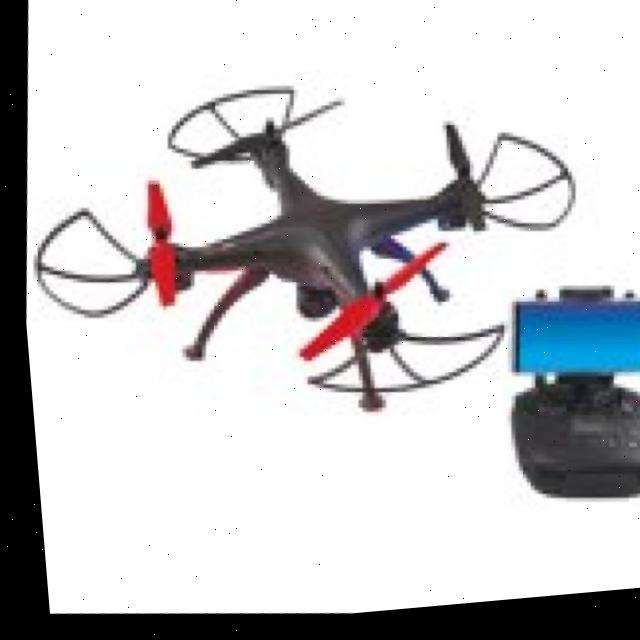drones: (3, 13, 615, 473)
